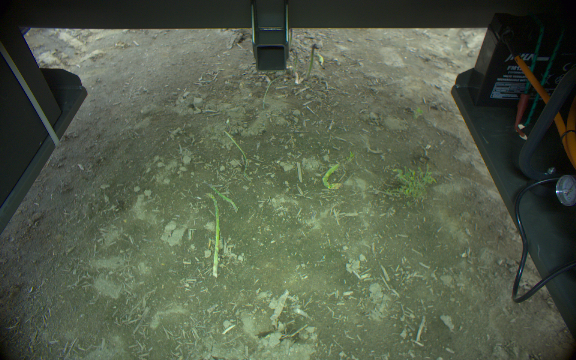aspa: (204, 192, 221, 278), (223, 129, 248, 177), (206, 183, 239, 212), (323, 161, 342, 190), (306, 44, 317, 81), (290, 46, 297, 75)
